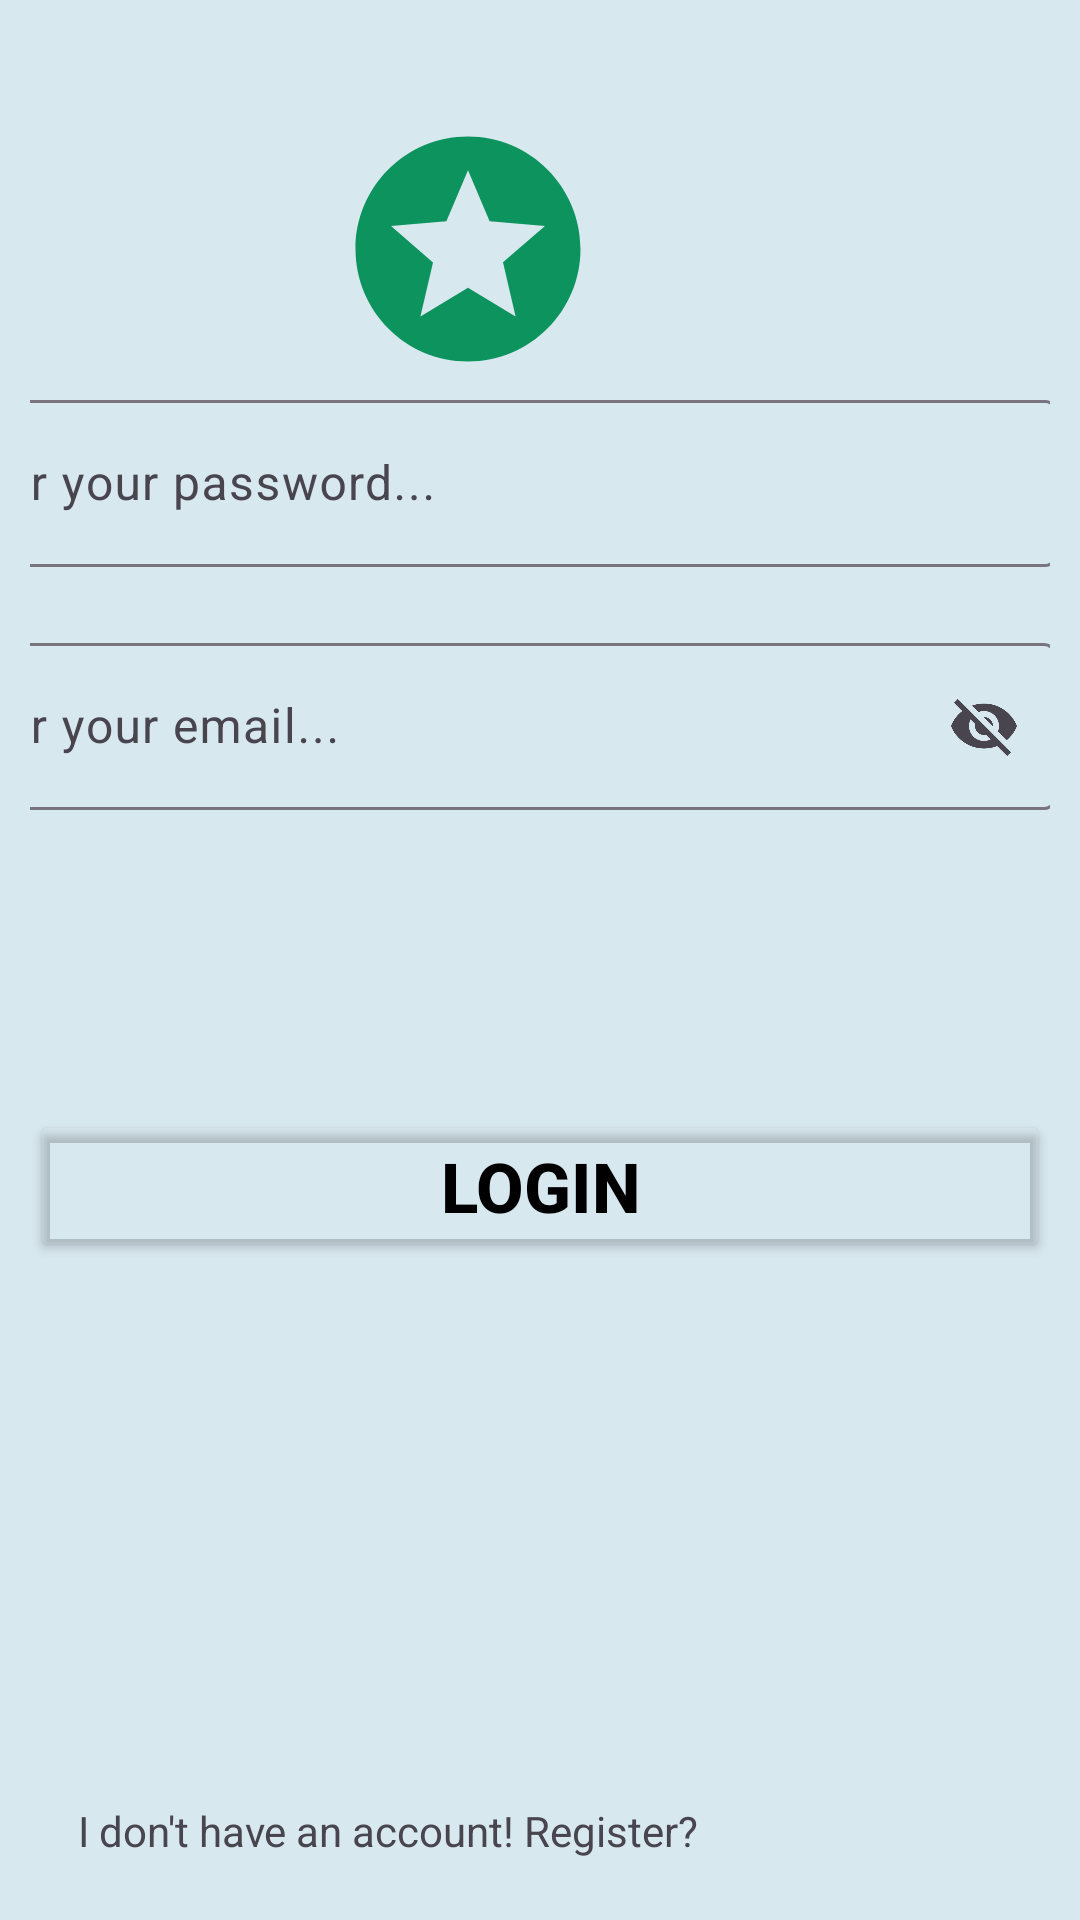

Icons on this 1080px×1920px Android screen, each with the point to tap as point (x, y):
stars: point (468, 249)
